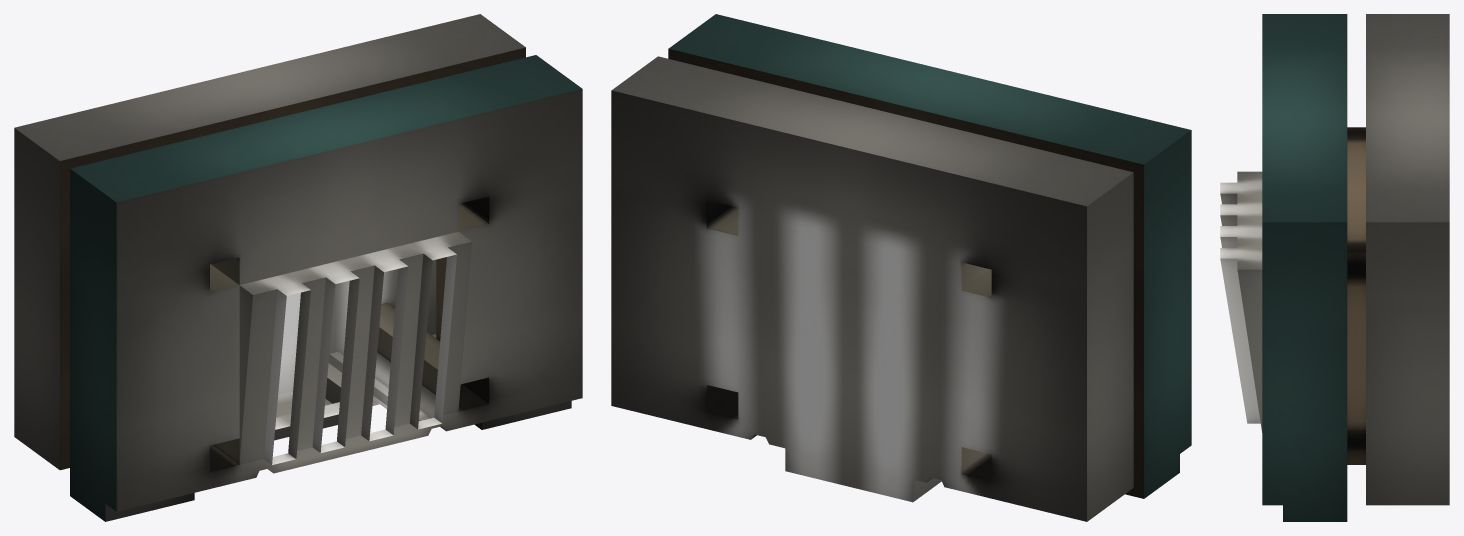
3 views of the same model, side by side, from view 1: azimuth 30°, elevation 25°; view 2: azimuth 150°, elevation 25°; view 3: azimuth 270°, elevation 25° (orthographic). The views are drawn at different scales.
Visible parts, largest first — view 1: interior_interior.001; view 2: interior_interior.001; view 3: interior_interior.001.
Boxes of the visible parts, x1,y1,x2,y2 form: interior_interior.001: (14, 14, 582, 521); interior_interior.001: (611, 14, 1191, 521); interior_interior.001: (1220, 14, 1449, 521).
Size of the model in its own units: 21.49 by 14.61 by 10.01.
